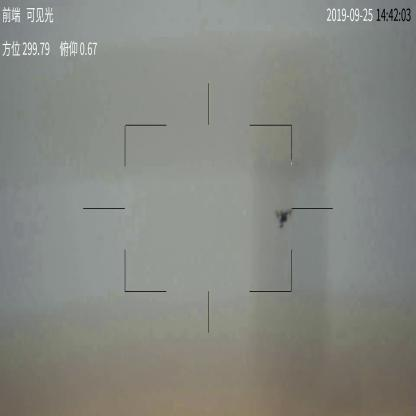uav: (274, 207, 294, 227)
